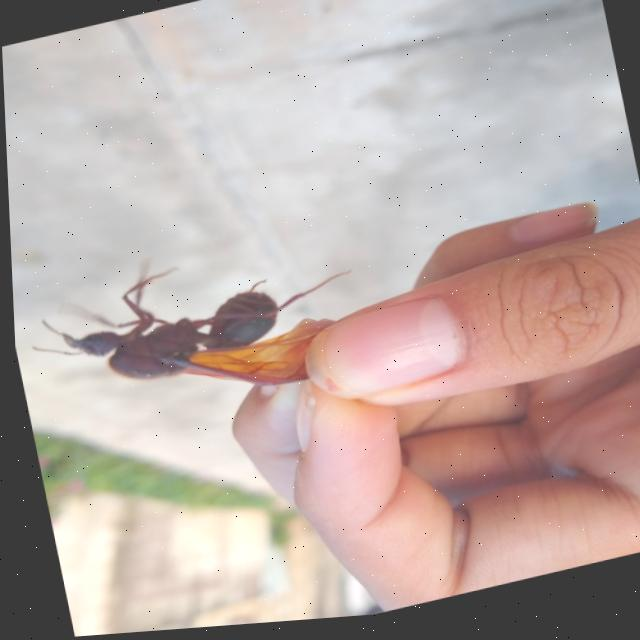Alive-Female-Alate: (15, 216, 371, 443)
